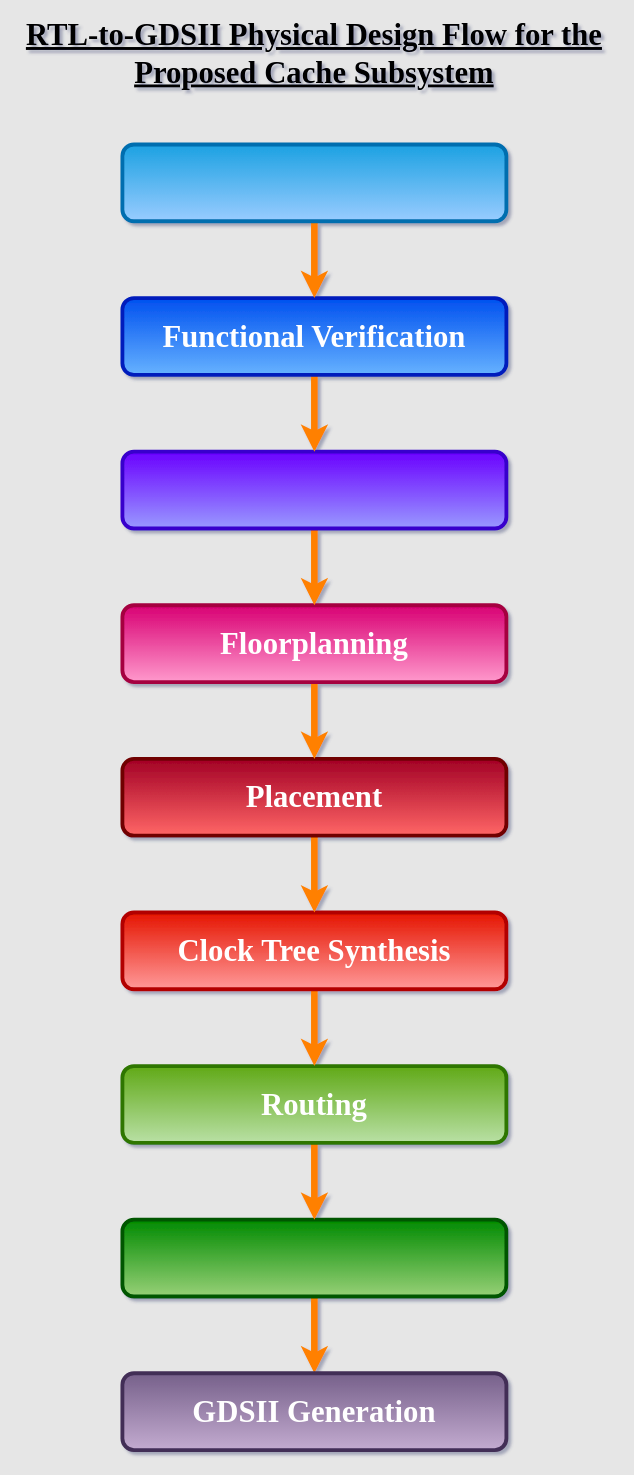
Some shapes in this 634 by 1475 pixel diagram are drawn without their labels. The shapes that lost their labels are listed below. From the top down, each one's centre as x and y in pixels, then its label:
At point (314, 182): "RTL Design".
At point (314, 489): "Logic Synthesis (Yosys)".
At point (314, 1257): "Static Timing Analysis".
